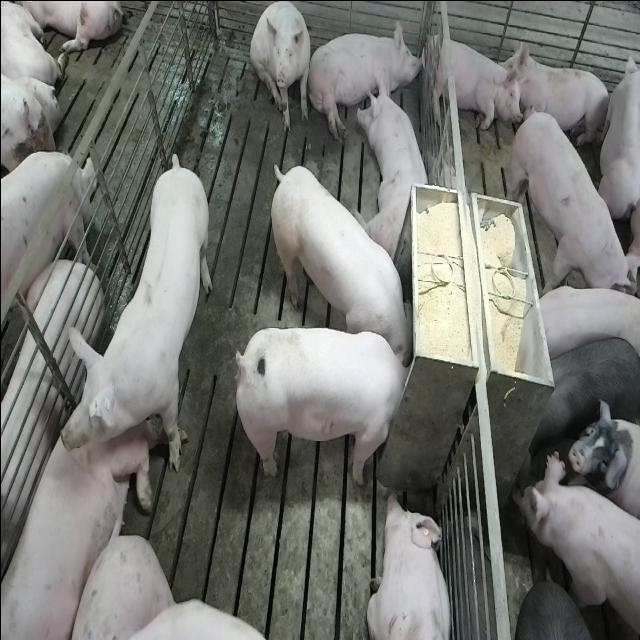Feeding: (265, 160, 411, 362), (240, 324, 418, 486)
Lateral_lying: (306, 15, 425, 140)
Sitting: (250, 2, 312, 134)
Standing: (60, 156, 212, 488), (508, 103, 630, 301), (512, 450, 638, 640), (0, 152, 94, 351), (526, 333, 638, 462), (526, 278, 639, 362), (517, 572, 609, 640)
Sternal_lying: (0, 372, 148, 634), (358, 70, 434, 258), (365, 489, 453, 640), (503, 39, 612, 153), (425, 32, 518, 134)
